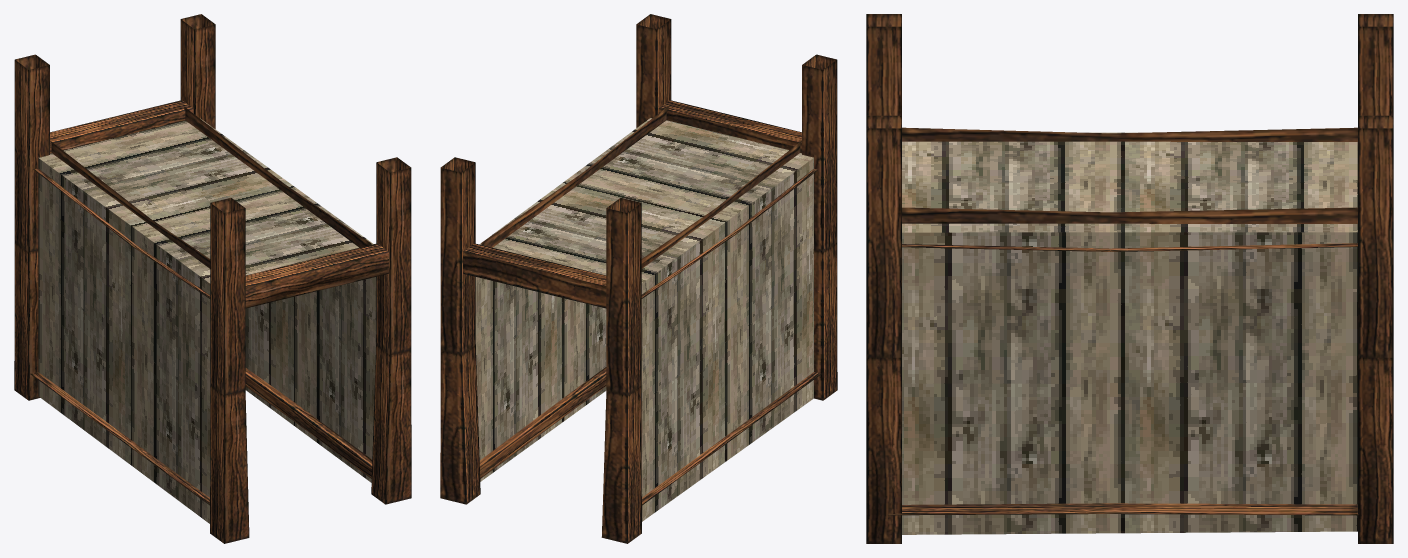
File: LAKETOWN_WAREHOUSE3_PS_WH3_HALLWAT848477__GX.fbx
3 renders of one model, left to right at view 1: azimuth 30°, elevation 25°; view 2: azimuth 150°, elevation 25°; view 3: azimuth 270°, elevation 25°, orthographic. The views are drawn at different scales.
Parts seen in each view (by area): view 1: LAKETOWN_WAREHOUSE3_PS_WH3_HALLWAT848477__GX; view 2: LAKETOWN_WAREHOUSE3_PS_WH3_HALLWAT848477__GX; view 3: LAKETOWN_WAREHOUSE3_PS_WH3_HALLWAT848477__GX.
Part boxes in pixels (x1=…): LAKETOWN_WAREHOUSE3_PS_WH3_HALLWAT848477__GX: x1=14, y1=14, x2=411, y2=543; LAKETOWN_WAREHOUSE3_PS_WH3_HALLWAT848477__GX: x1=440, y1=14, x2=837, y2=543; LAKETOWN_WAREHOUSE3_PS_WH3_HALLWAT848477__GX: x1=866, y1=14, x2=1393, y2=543.
Bounding box in the file's own units: 30974 × 51639 × 59405.
Materials: 2 (2 with a texture image).
